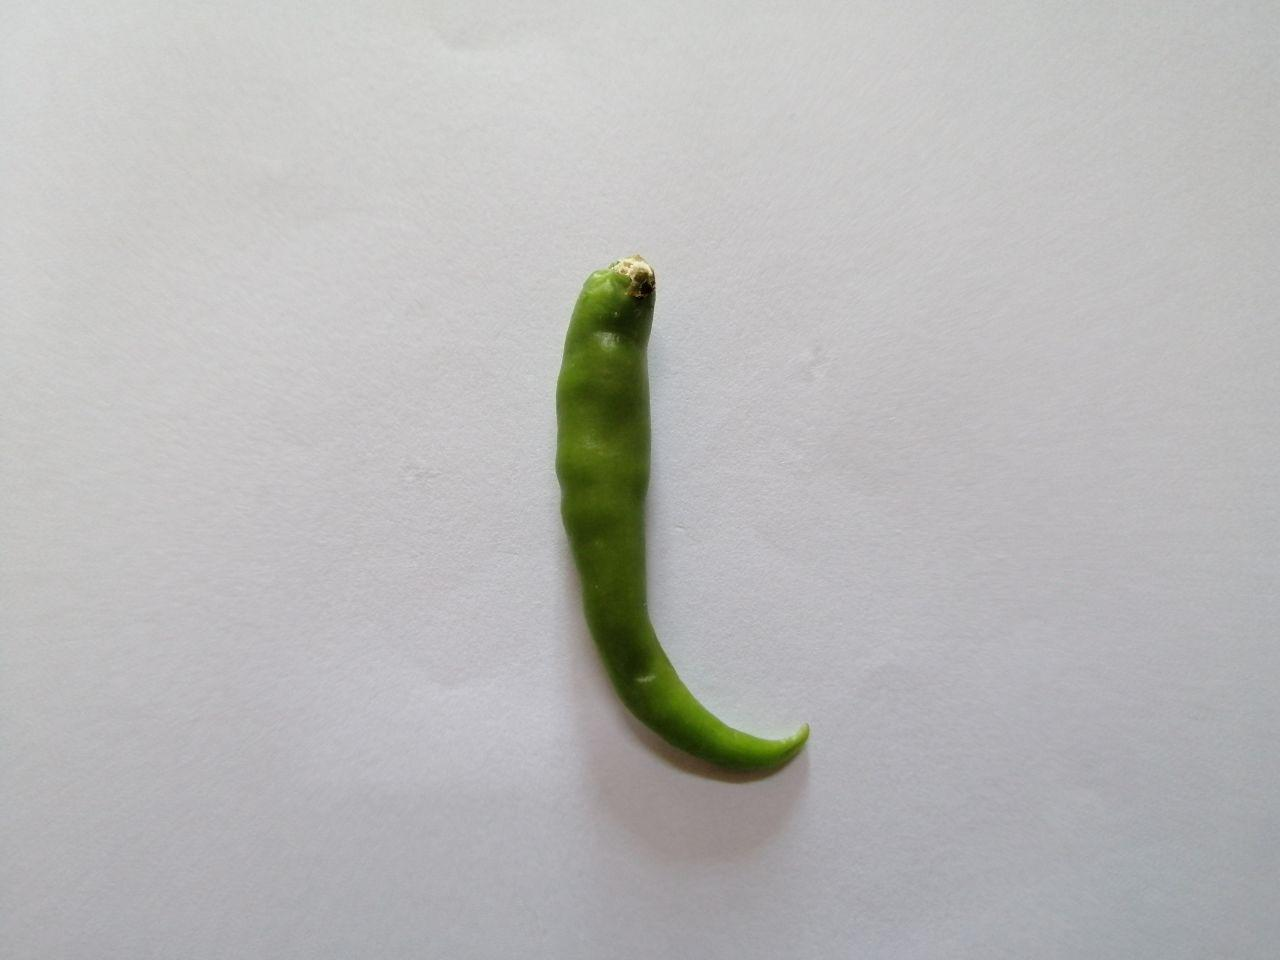lada hijau: (508, 239, 834, 787)
